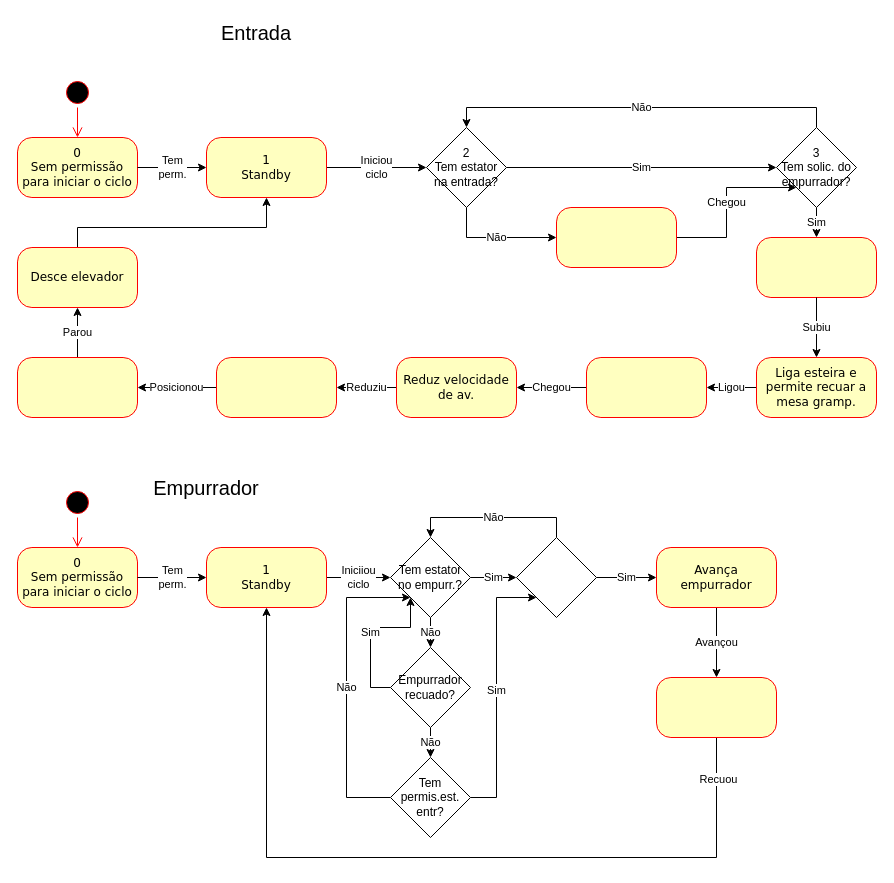
The diagram is 894 pixels wide and 883 high, and some of its shapes have lost their labels. The shapes that lost their labels are listed below. From the top down, each one's centre as x and y in pixels, then its label:
pixel 616 237: Aguarda estator da grampeadeira
pixel 816 267: 4 Sobe elevador
pixel 77 387: Desliga esteira
pixel 276 387: Posiciona estator no empurrador
pixel 646 387: Aguarda chegar no sensor 1
pixel 556 577: Tem permi. trecho 1?
pixel 716 707: Recua empurrador
